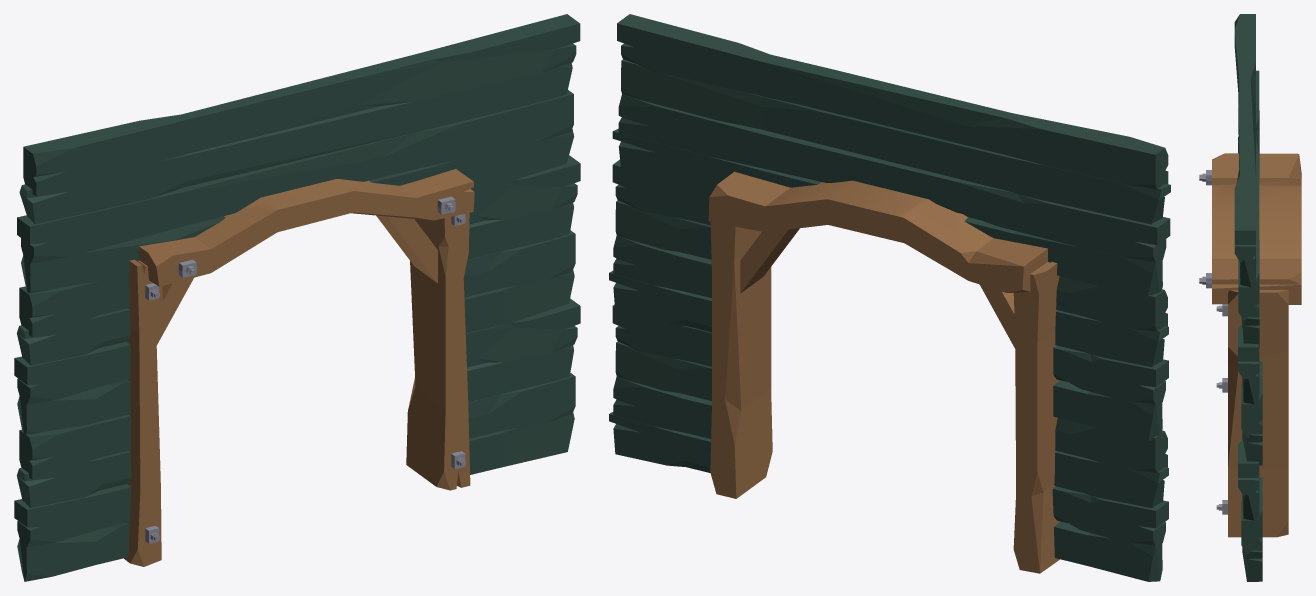
Rendered from Entrance_00.FBX.
3 views of the same model, side by side, from view 1: azimuth 30°, elevation 25°; view 2: azimuth 150°, elevation 25°; view 3: azimuth 270°, elevation 25° (orthographic). The views are drawn at different scales.
Parts seen in each view (by area): view 1: Entrance_00; view 2: Entrance_00; view 3: Entrance_00.
Boxes of the visible parts, x1,y1,x2,y2 form: Entrance_00: (14,14,580,581); Entrance_00: (609,14,1170,581); Entrance_00: (1199,14,1301,581).
Size of the model in its own units: 48.25 by 36.04 by 9.43.
